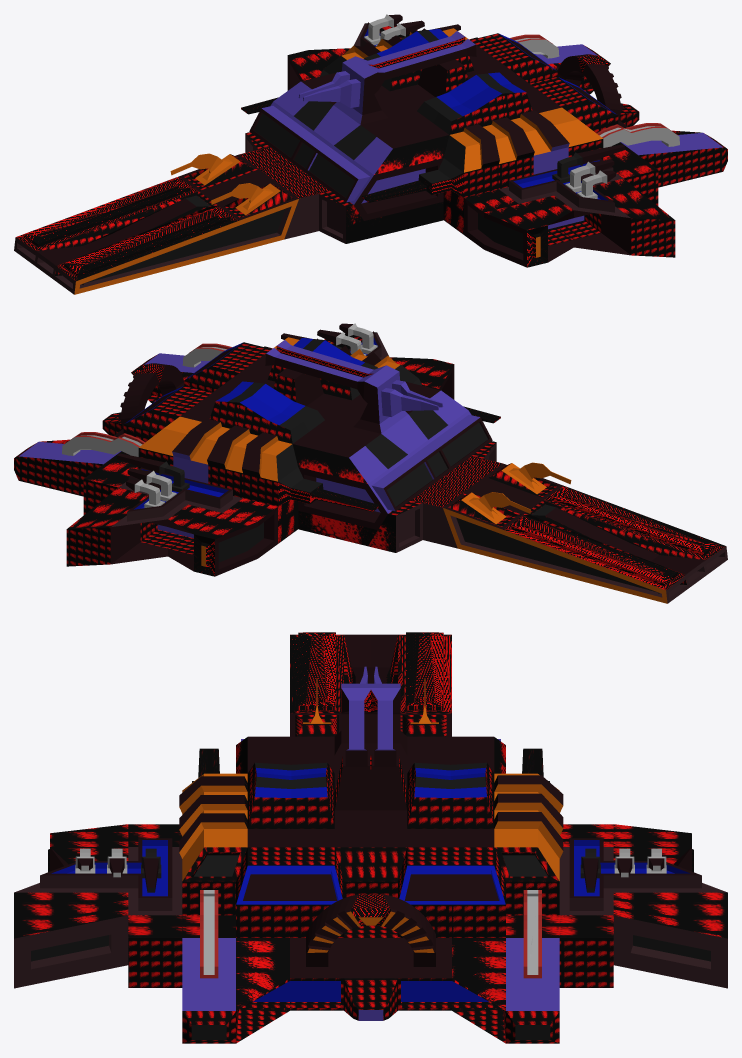
The model's file is MotherShip.obj.
The picture shows the model from 3 angles, top to bottom: view 1: azimuth 30°, elevation 25°; view 2: azimuth 150°, elevation 25°; view 3: azimuth 270°, elevation 25°; orthographic projection. The views are drawn at different scales.
Parts seen in each view (by area): view 1: Plane.002, Plane.006_Plane.005, Plane.004_Plane.003, Plane.005_Plane.004, Plane.003_Plane; view 2: Plane.002, Plane.006_Plane.005, Plane.004_Plane.003, Plane.005_Plane.004, Plane.003_Plane; view 3: Plane.002, Plane.006_Plane.005, Plane.003_Plane, Plane.004_Plane.003, Plane.005_Plane.004.
Boxes of the visible parts, <box> form: Plane.002: <box>14,22,727,294</box>; Plane.006_Plane.005: <box>510,34,679,147</box>; Plane.004_Plane.003: <box>375,20,614,192</box>; Plane.005_Plane.004: <box>364,14,615,198</box>; Plane.003_Plane: <box>401,24,624,183</box>; Plane.002: <box>14,331,727,603</box>; Plane.006_Plane.005: <box>62,343,231,456</box>; Plane.004_Plane.003: <box>127,329,366,501</box>; Plane.005_Plane.004: <box>126,323,377,507</box>; Plane.003_Plane: <box>117,333,341,492</box>; Plane.002: <box>14,632,727,1043</box>; Plane.006_Plane.005: <box>200,890,541,978</box>; Plane.003_Plane: <box>141,848,600,892</box>; Plane.004_Plane.003: <box>107,848,634,877</box>; Plane.005_Plane.004: <box>75,848,666,873</box>.
Bounding box in the file's own units: 624 × 136 × 467.
Materials: 16 (5 with a texture image).
